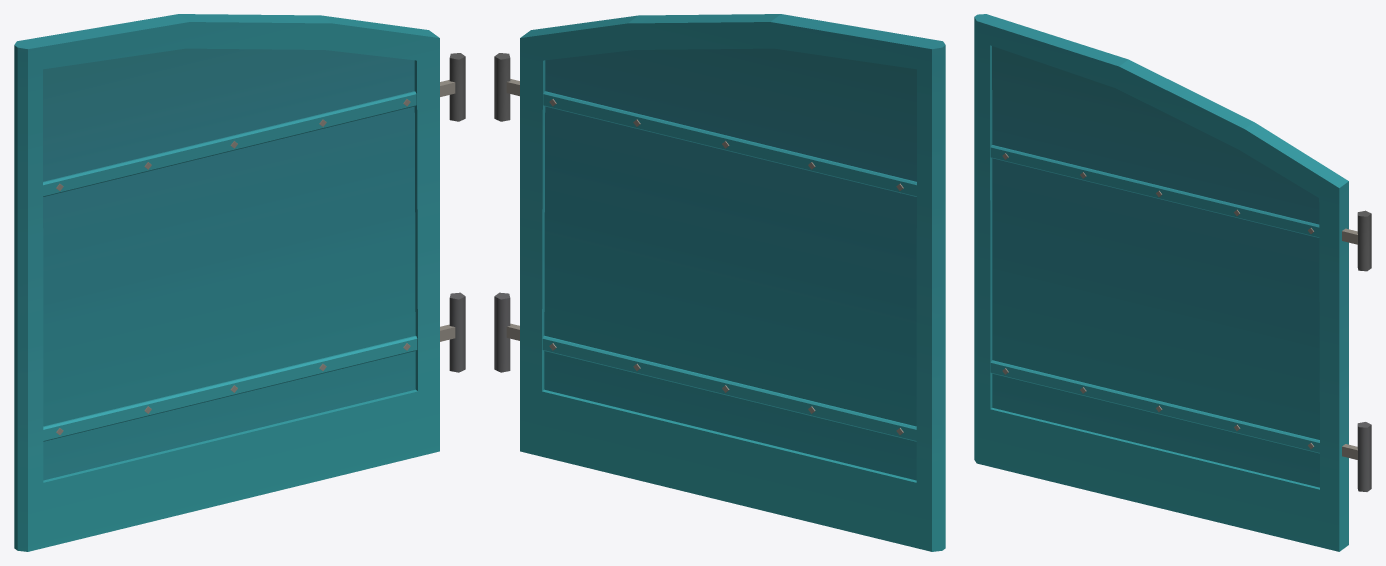
The model's file is WallFence_3_Gate_D.fbx.
3 views of the same model, side by side, from view 1: azimuth 30°, elevation 25°; view 2: azimuth 150°, elevation 25°; view 3: azimuth 330°, elevation 25° (orthographic). The views are drawn at different scales.
Parts seen in each view (by area): view 1: WallFence_3_Gate_D; view 2: WallFence_3_Gate_D; view 3: WallFence_3_Gate_D.
Boxes of the visible parts, left/top/right/bottom form: WallFence_3_Gate_D: left=14, top=14, right=465, bottom=551; WallFence_3_Gate_D: left=494, top=14, right=945, bottom=551; WallFence_3_Gate_D: left=974, top=14, right=1371, bottom=551.
Bounding box in the file's own units: 189 × 203 × 8.
